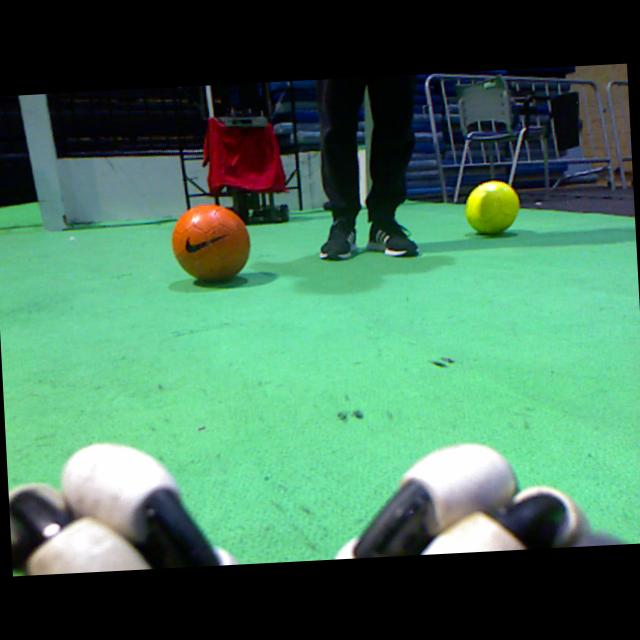ball: (172, 205, 250, 281), (466, 182, 519, 234)
goal: (19, 94, 66, 232)
